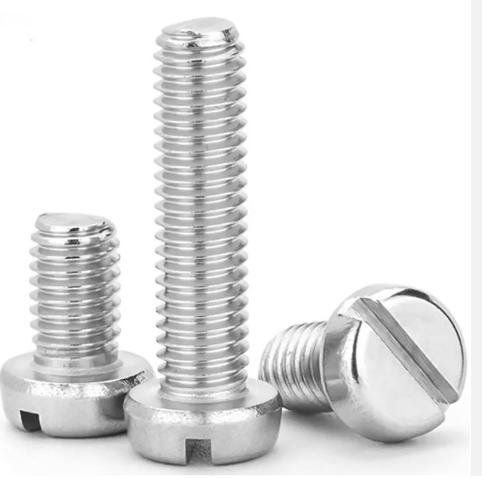slotted: (319, 280, 465, 445)
